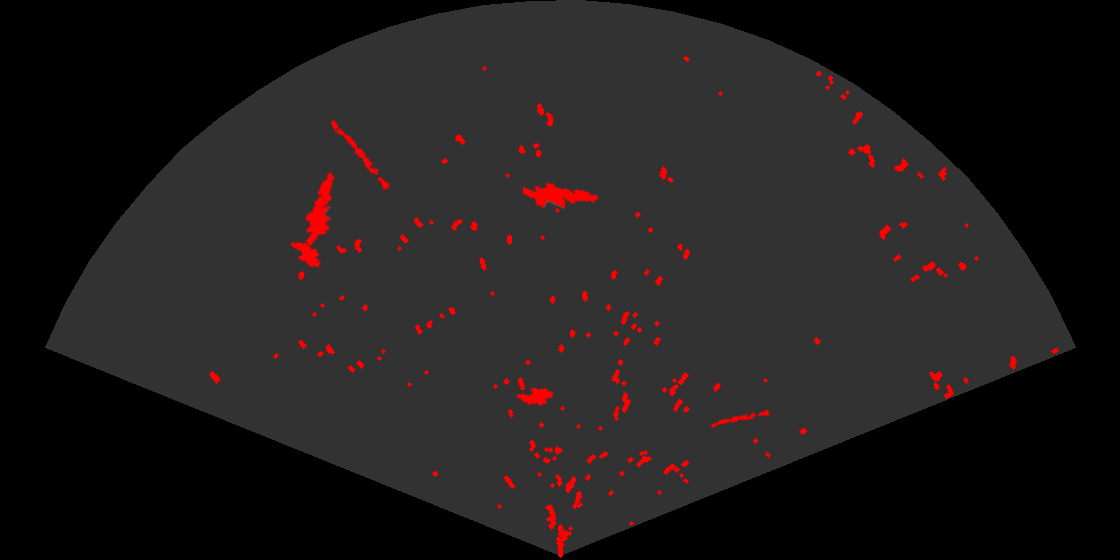AUV: (289, 240, 322, 269), (514, 386, 555, 408)
chain: (335, 127, 395, 194), (708, 408, 770, 429)
frogman: (300, 171, 336, 247), (523, 181, 600, 210)
